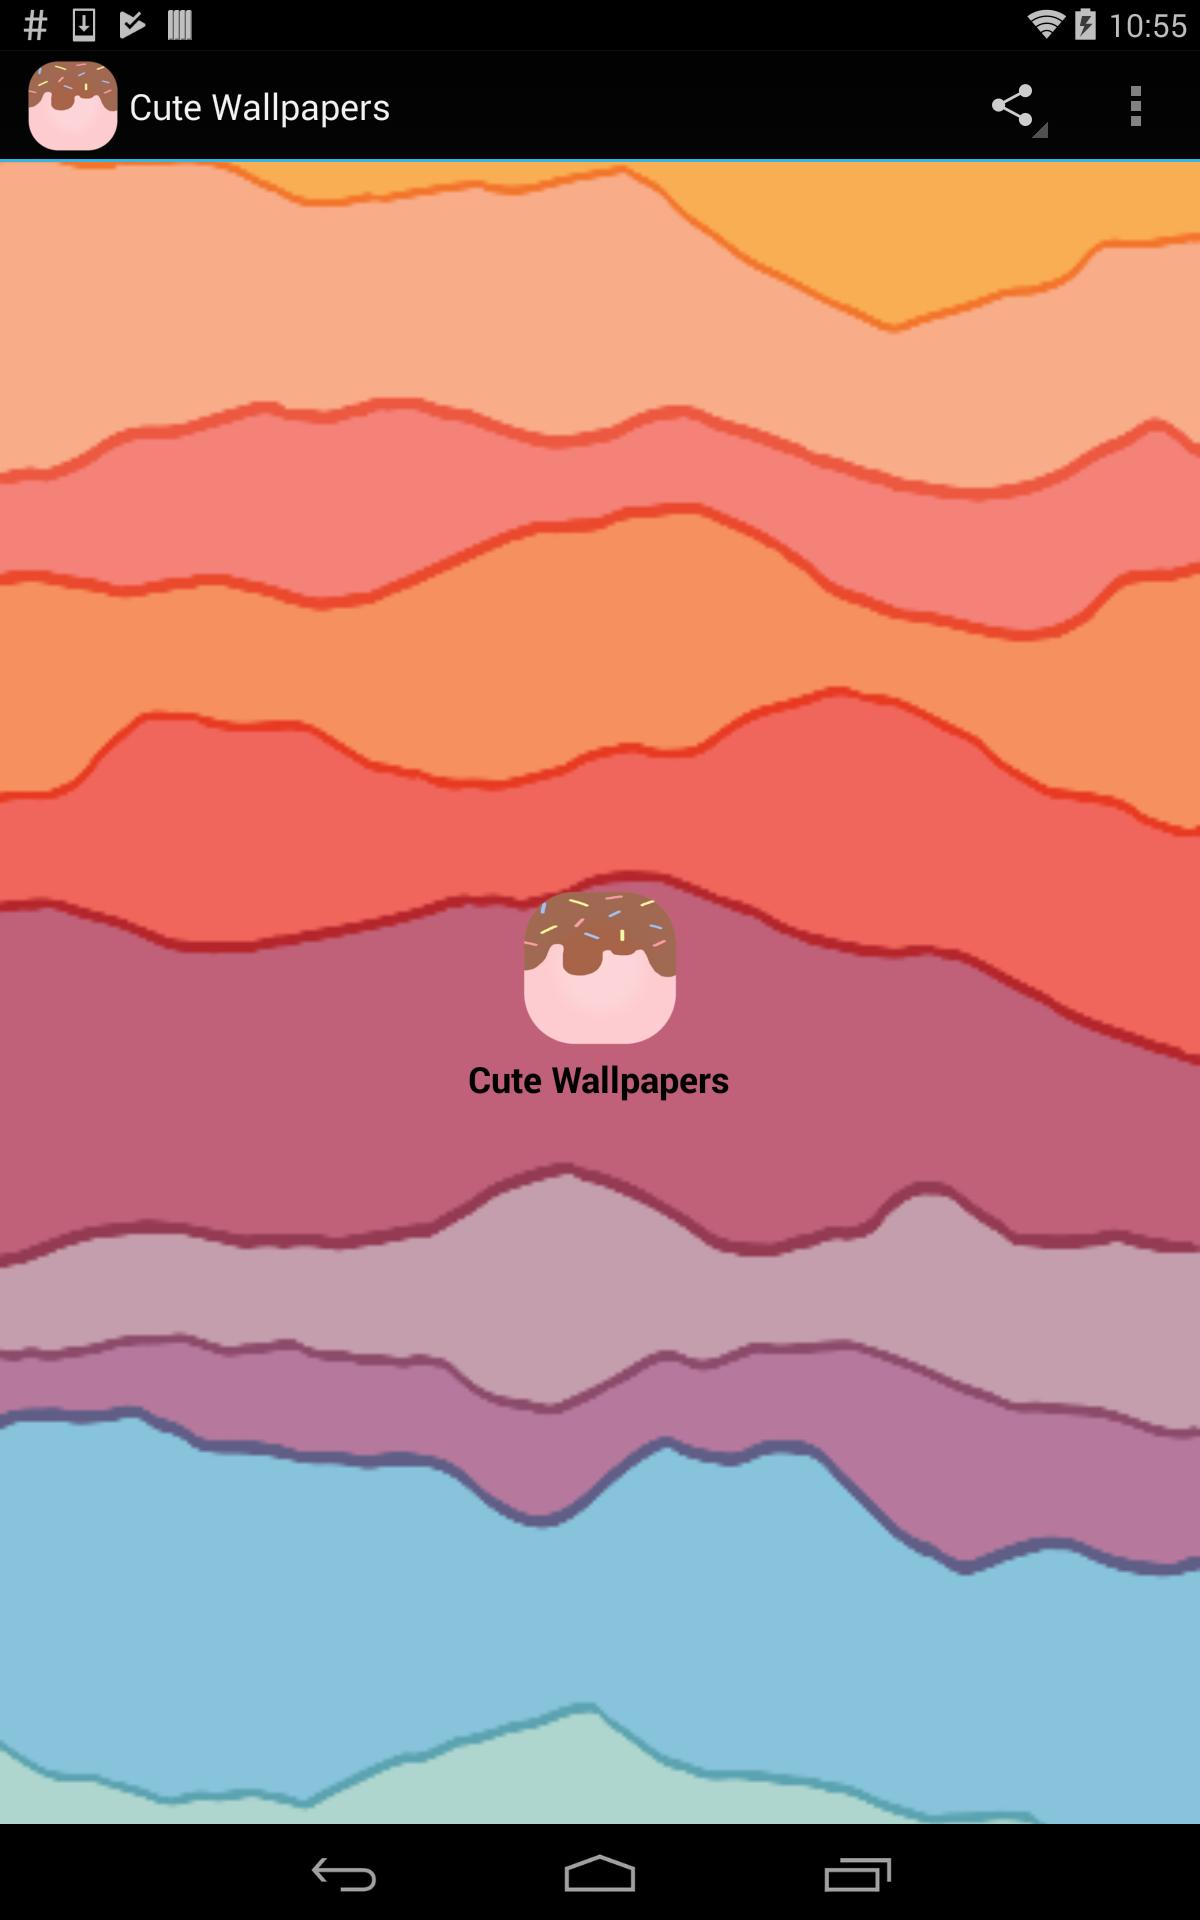android.view.View: (0, 0, 1200, 1825), (0, 162, 1200, 1825), (0, 50, 1200, 162), (959, 50, 1071, 162)
android.widget.FrameLayout: (0, 0, 1200, 1825), (0, 162, 1200, 1825), (0, 50, 1200, 162), (17, 50, 129, 162), (959, 50, 1071, 162)
android.widget.ImageButton: (1071, 50, 1200, 162)
android.widget.ImageView: (0, 162, 1200, 1825), (518, 886, 682, 1051), (25, 58, 122, 153), (959, 70, 1071, 142)
android.widget.LinearLayout: (0, 162, 1200, 1825), (465, 882, 735, 1104), (17, 50, 408, 162), (514, 882, 686, 1055), (959, 50, 1200, 162), (129, 82, 408, 130), (959, 50, 1071, 162)
android.widget.RelativeLayout: (0, 162, 1200, 1825)
android.widget.ScrollView: (0, 162, 1200, 1825)
android.widget.TextView: (129, 82, 393, 130), (469, 1055, 731, 1103)
